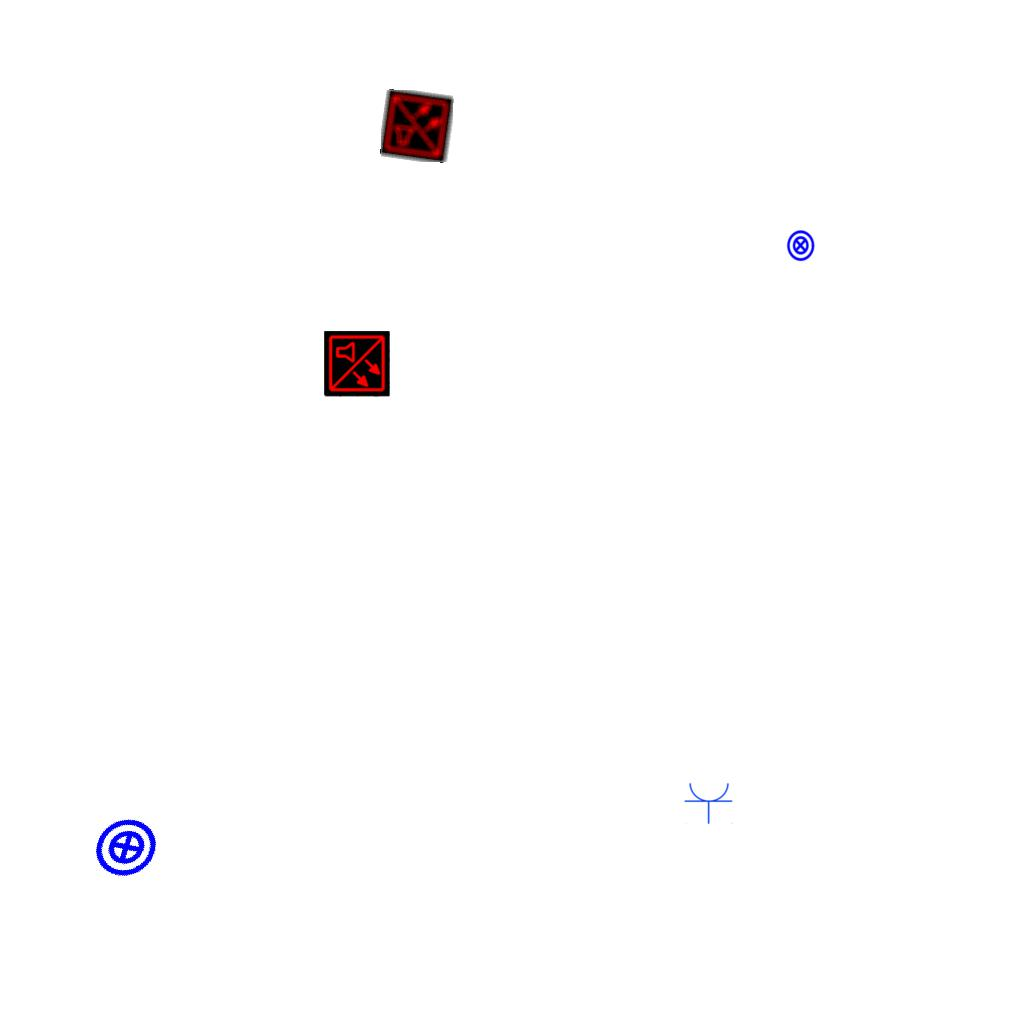OKW_Multisensormelder_(Kombination_optischer_Rauch-Kahlenmonoxid_Waerme-Melder): (379, 88, 455, 164), (324, 331, 390, 397)
Schukosteckdose_einfach: (684, 781, 734, 824)
Taster_beleuchtet: (80, 801, 172, 893), (784, 229, 817, 262)
